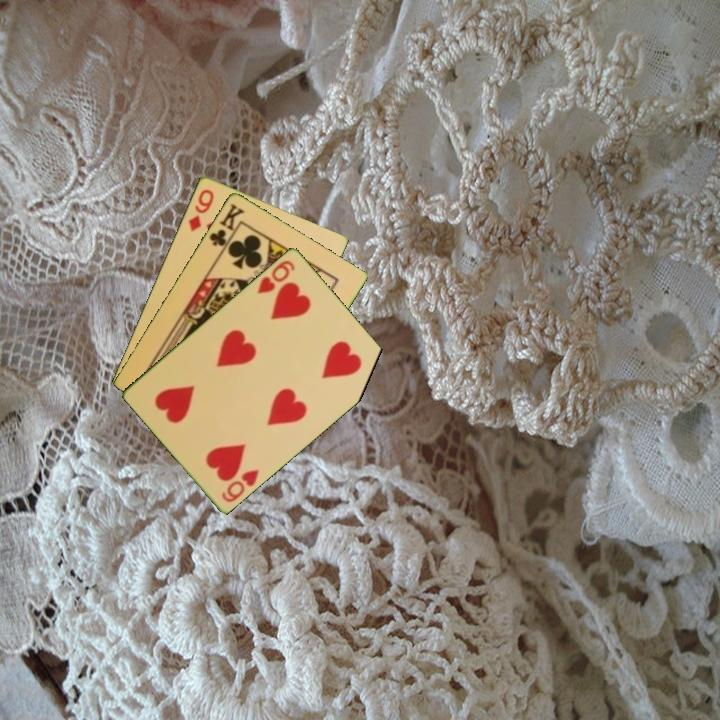6h: (253, 256, 298, 296), (218, 465, 262, 505)
9d: (185, 185, 217, 234)
Kc: (205, 200, 247, 255)
